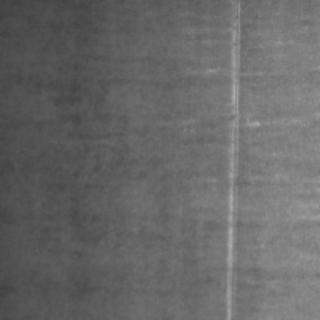scratches: (221, 0, 241, 316)
